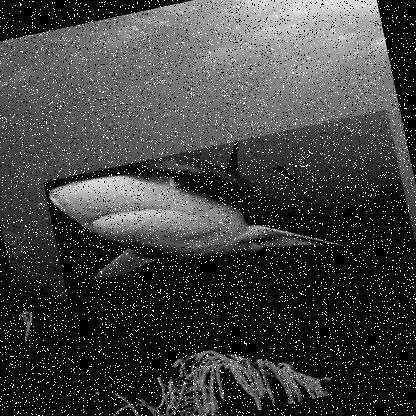tiger-shark: (41, 108, 415, 351)
